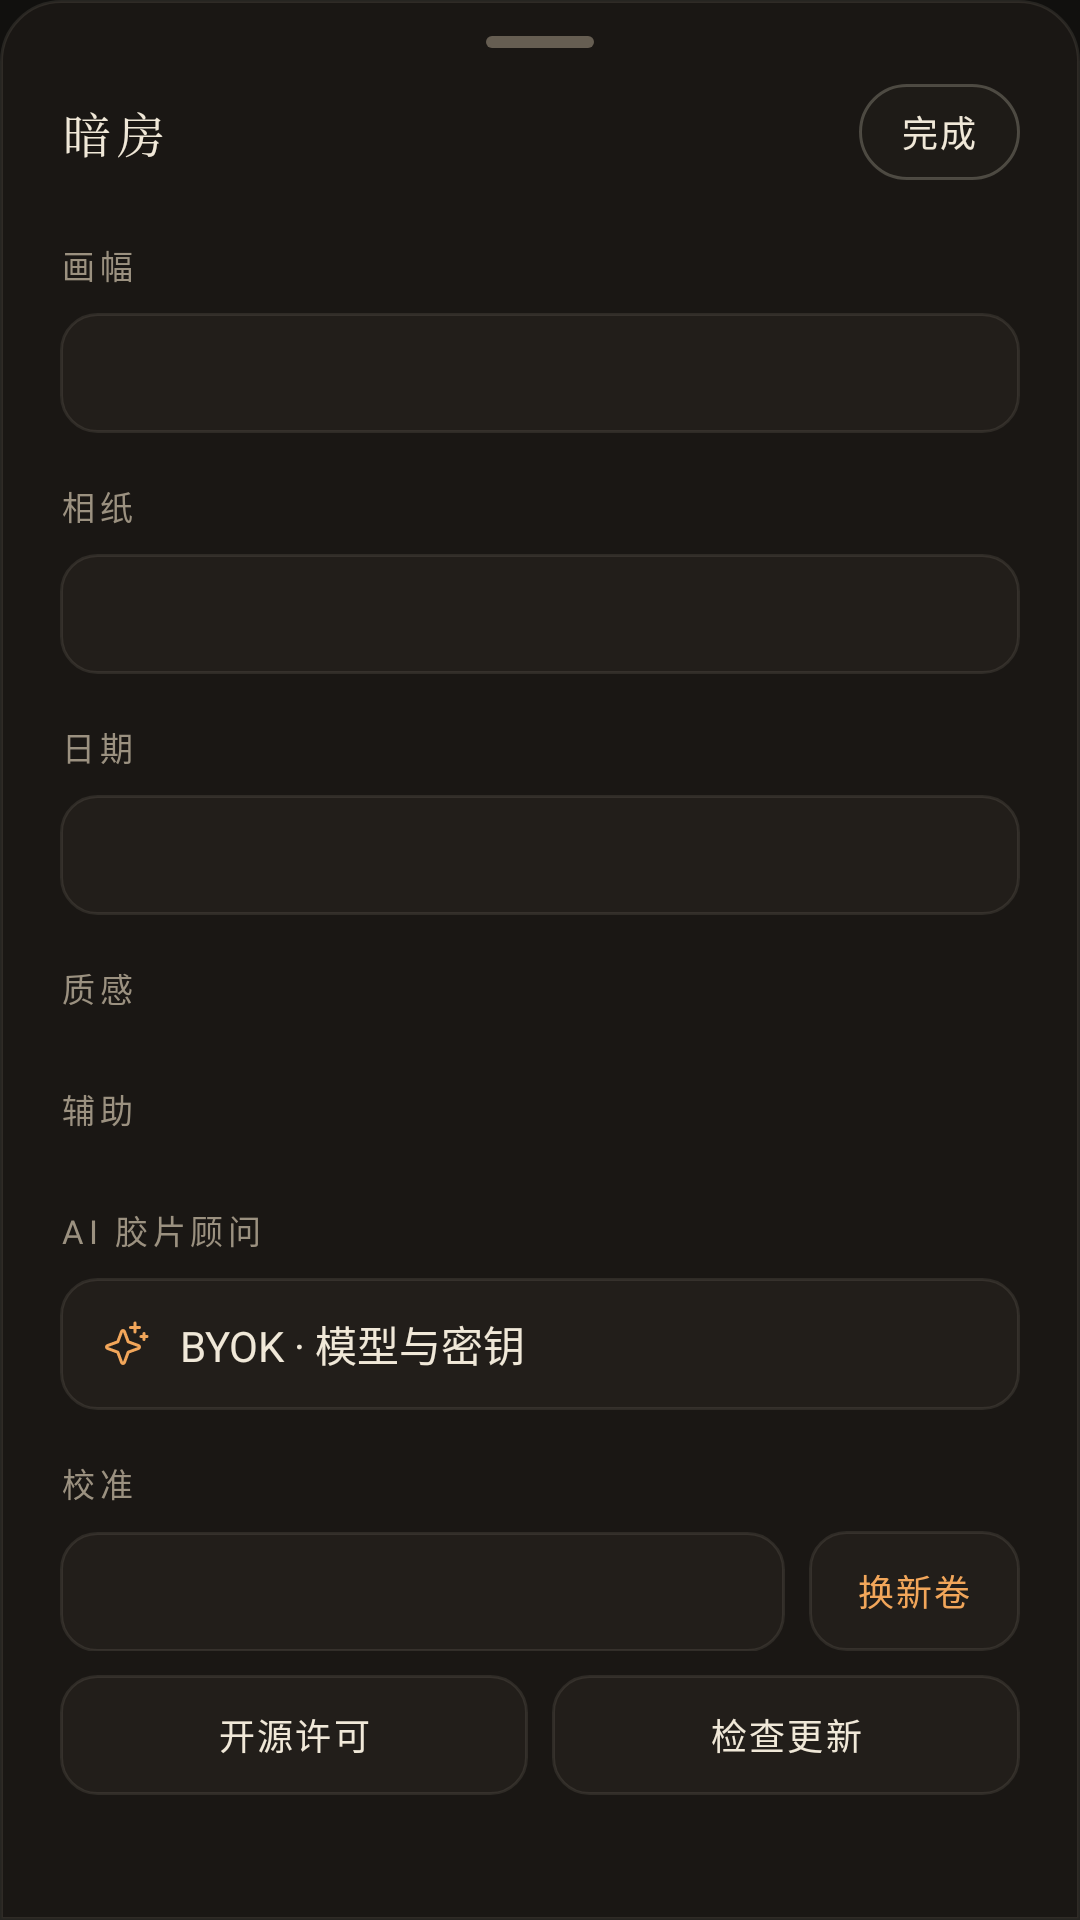

Named icons in this screenshot (1080*1920) and their centers, (x,y):
sparkle: (127,1343)
